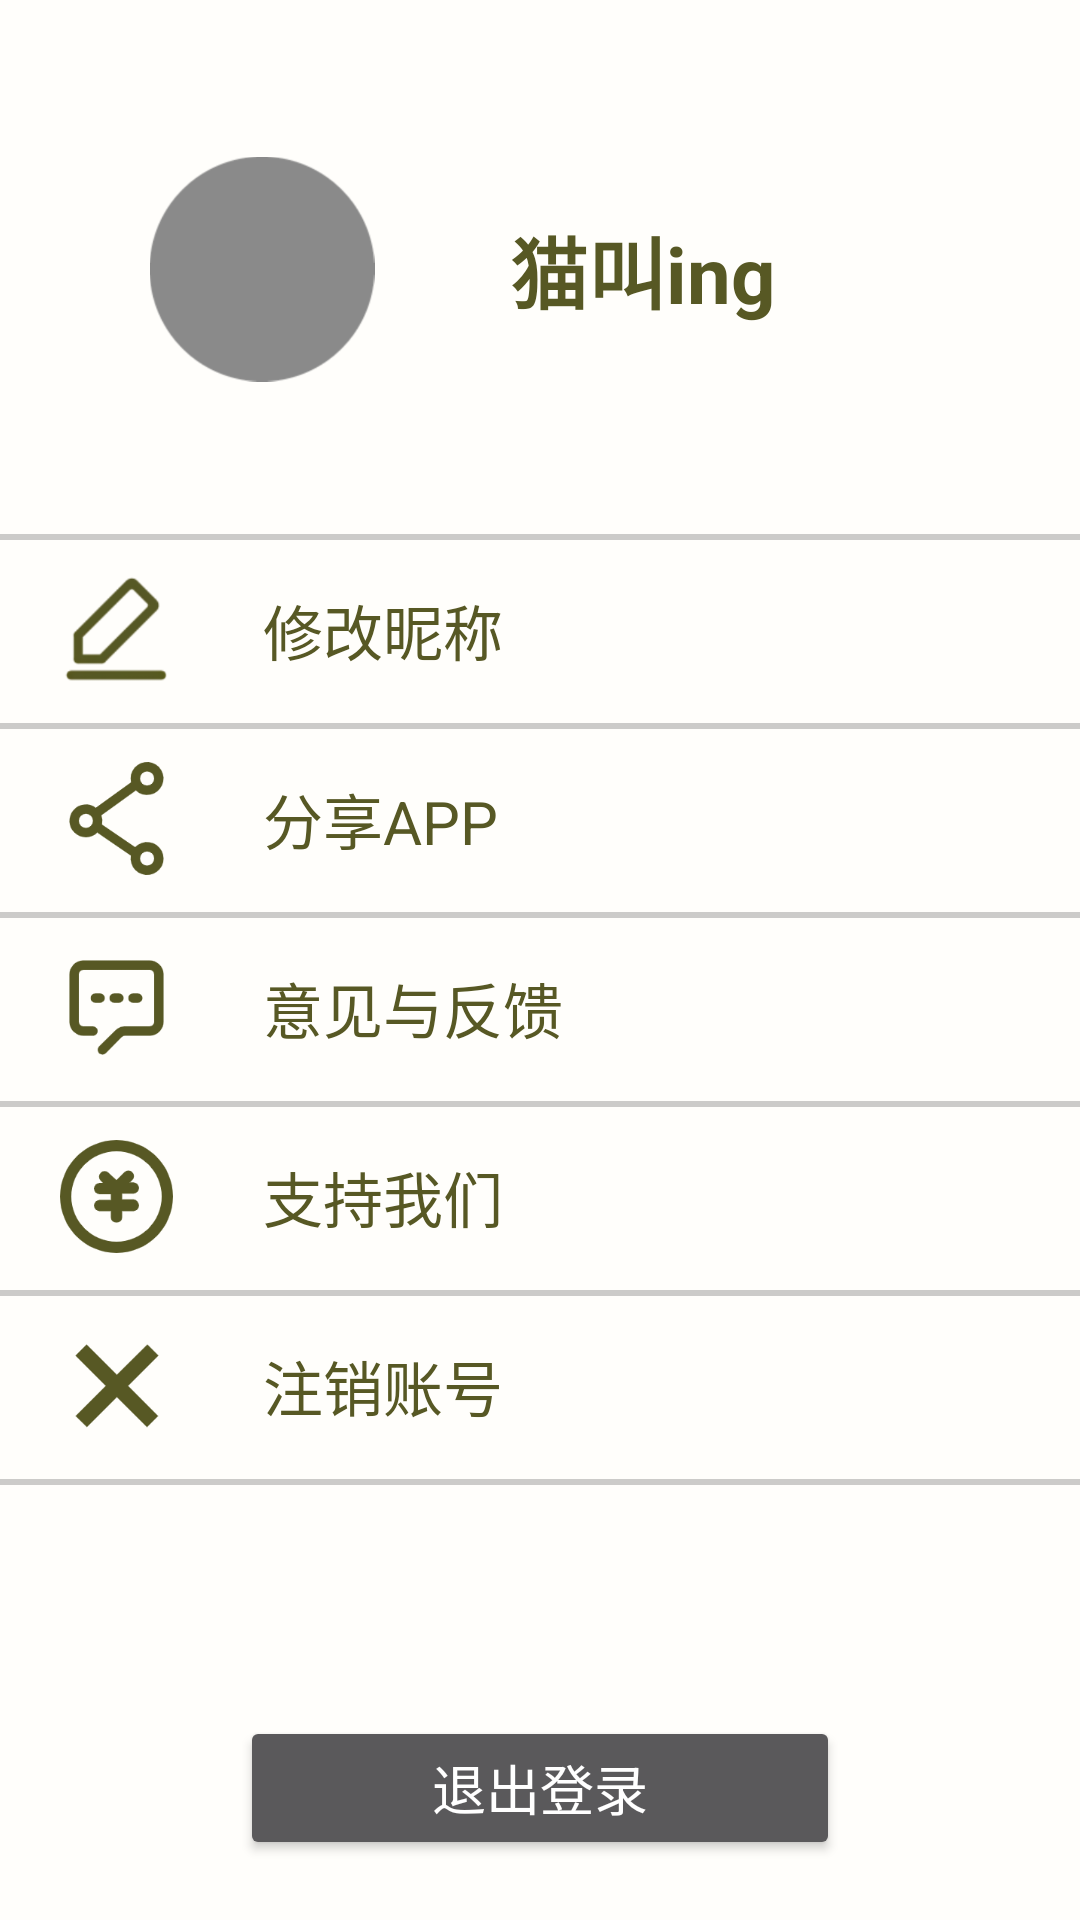

Where icons sit on this 1080px×1920px app screen, as (x1, y1, x2, y2):
share: (69, 762, 164, 875)
suggestion: (69, 960, 164, 1055)
support: (60, 1140, 173, 1253)
write: (66, 578, 167, 681)
